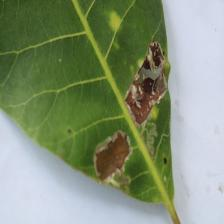leaf miner: (0, 0, 185, 223), (92, 38, 168, 187), (124, 38, 168, 128)
